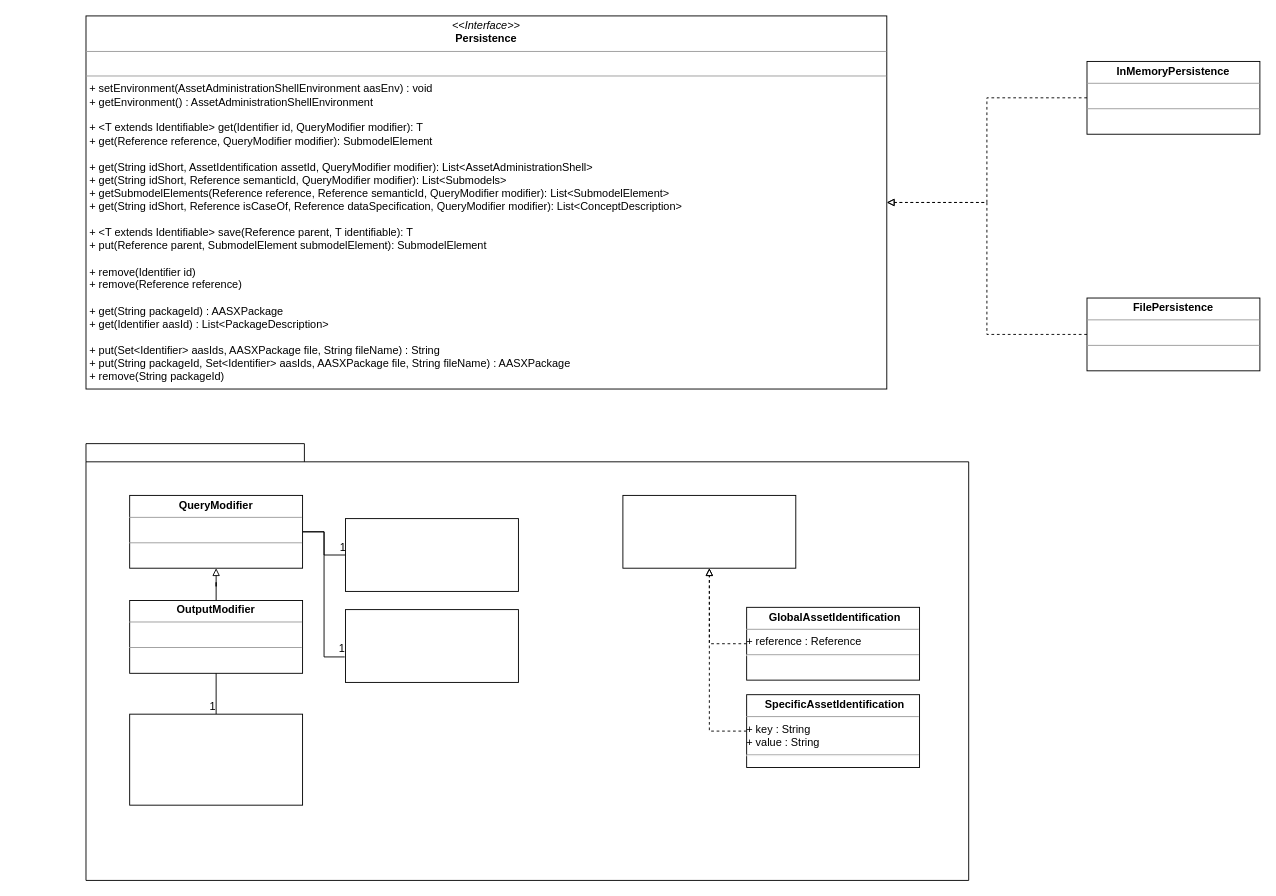
The diagram is 1276 pixels wide and 896 high, and some of its shapes have lost their labels. The shapes that lost their labels are listed below. From the top down, each one's box as (x1, y1, x2, y2) in pixels, then its label:
(622, 494, 796, 568): <<Interface>> AssetIdentification
(345, 518, 518, 591): <<enumeration>> Level Deep (Default) Core
(345, 609, 518, 682): <<enumeration>> Extend WithoutBLOBValue (Default) WithBLOBValue
(129, 713, 303, 805): <<enumeration>> Content Normal (Default) Value Reference Path
